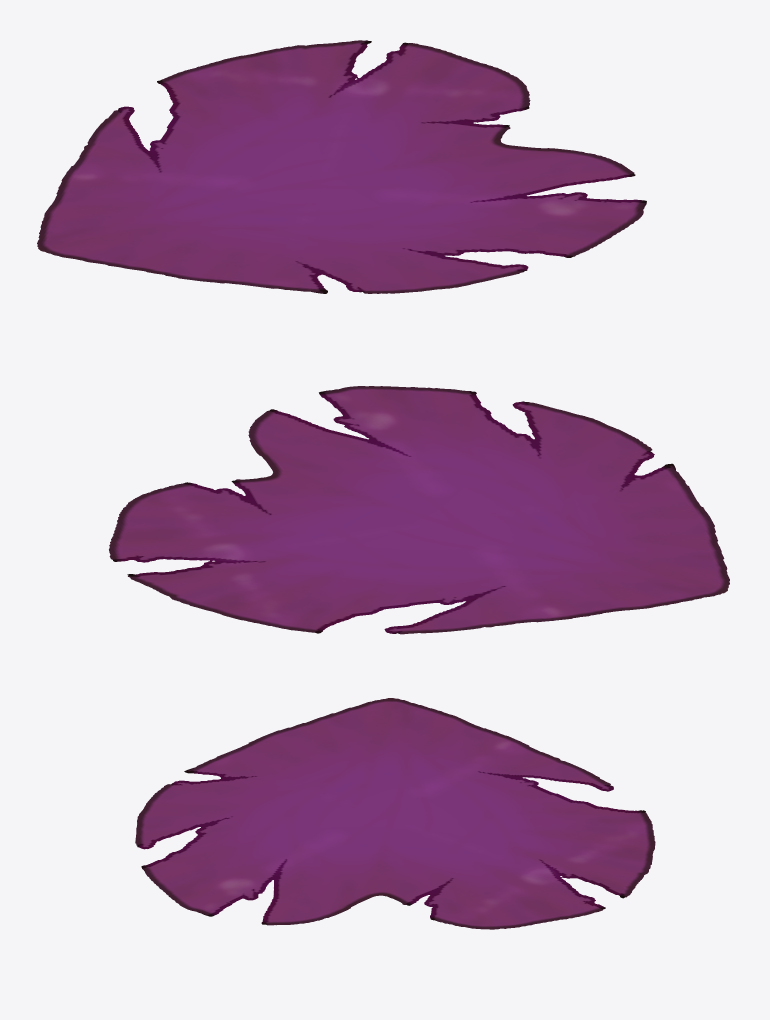
File: FlowerPetalLoveTorn.fbx
The picture shows the model from 3 angles, top to bottom: view 1: azimuth 30°, elevation 25°; view 2: azimuth 150°, elevation 25°; view 3: azimuth 270°, elevation 25°; orthographic projection. The views are drawn at different scales.
Parts seen in each view (by area): view 1: FlowerPetalLoveTorn; view 2: FlowerPetalLoveTorn; view 3: FlowerPetalLoveTorn.
Part boxes in pixels (left/top/right/bottom): FlowerPetalLoveTorn: left=37, top=40, right=646, bottom=293; FlowerPetalLoveTorn: left=109, top=386, right=729, bottom=634; FlowerPetalLoveTorn: left=135, top=698, right=655, bottom=929.
Size of the model in its own units: 102 by 1.55e-05 by 99.78.
